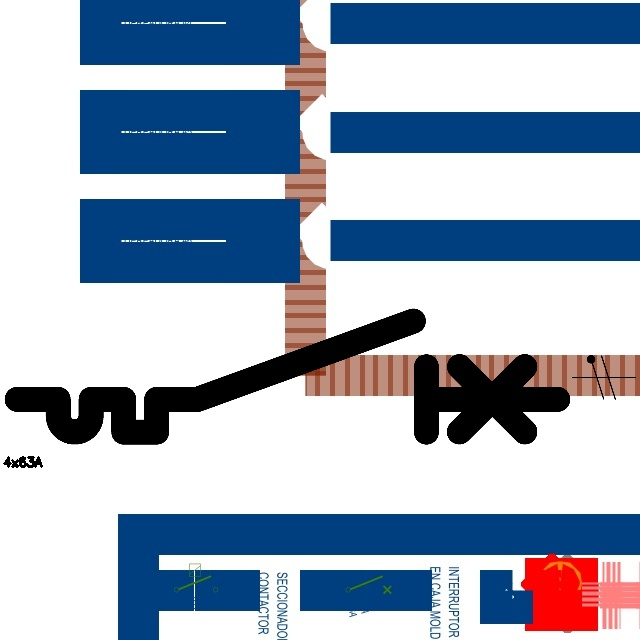interruptor_termomagnetico: (3, 307, 571, 446)
